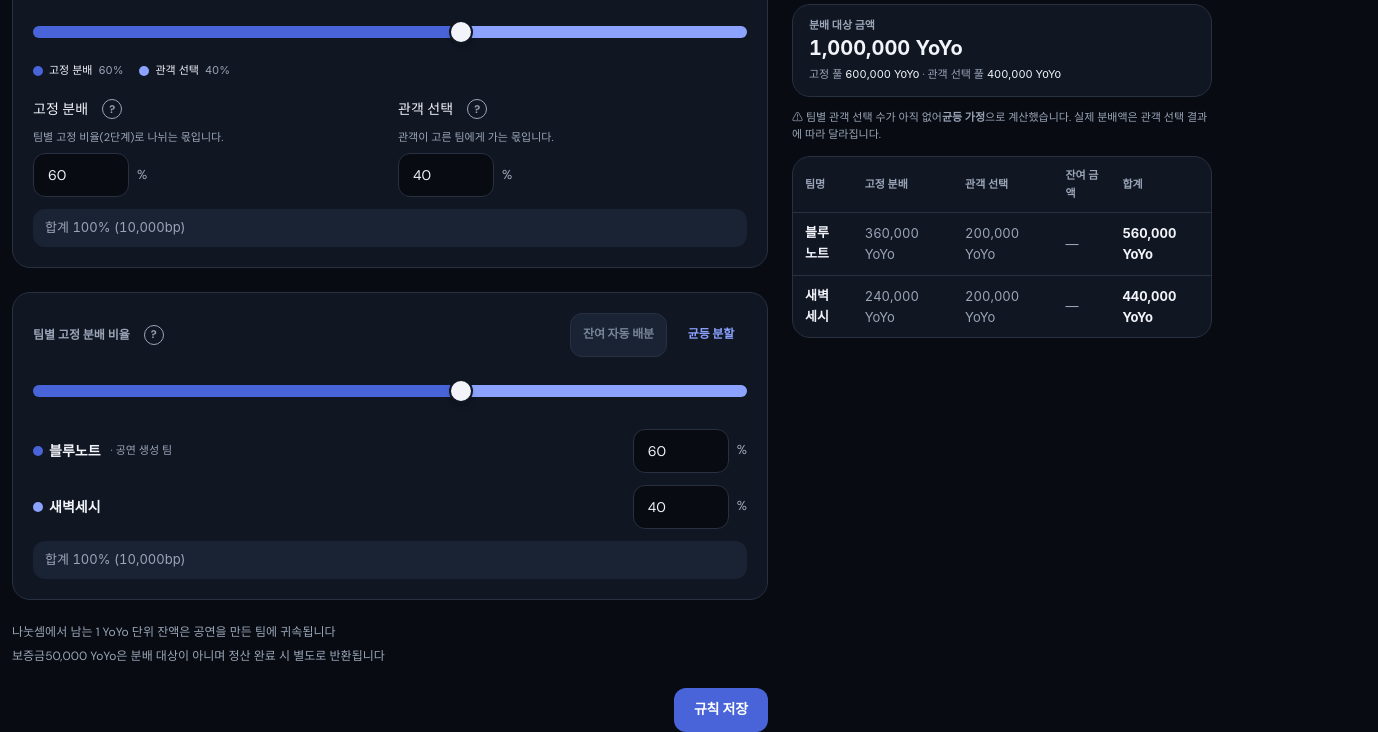
규칙 저장 성공 모달 › 저장 실패면 모달을 띄우지 않고 기존 실패 안내를 쓴다
The image size is (1378, 732).
(page scrolled)
Click the button "규칙 저장".
click(721, 710)  # box [674,688,768,731]
(page scrolled)
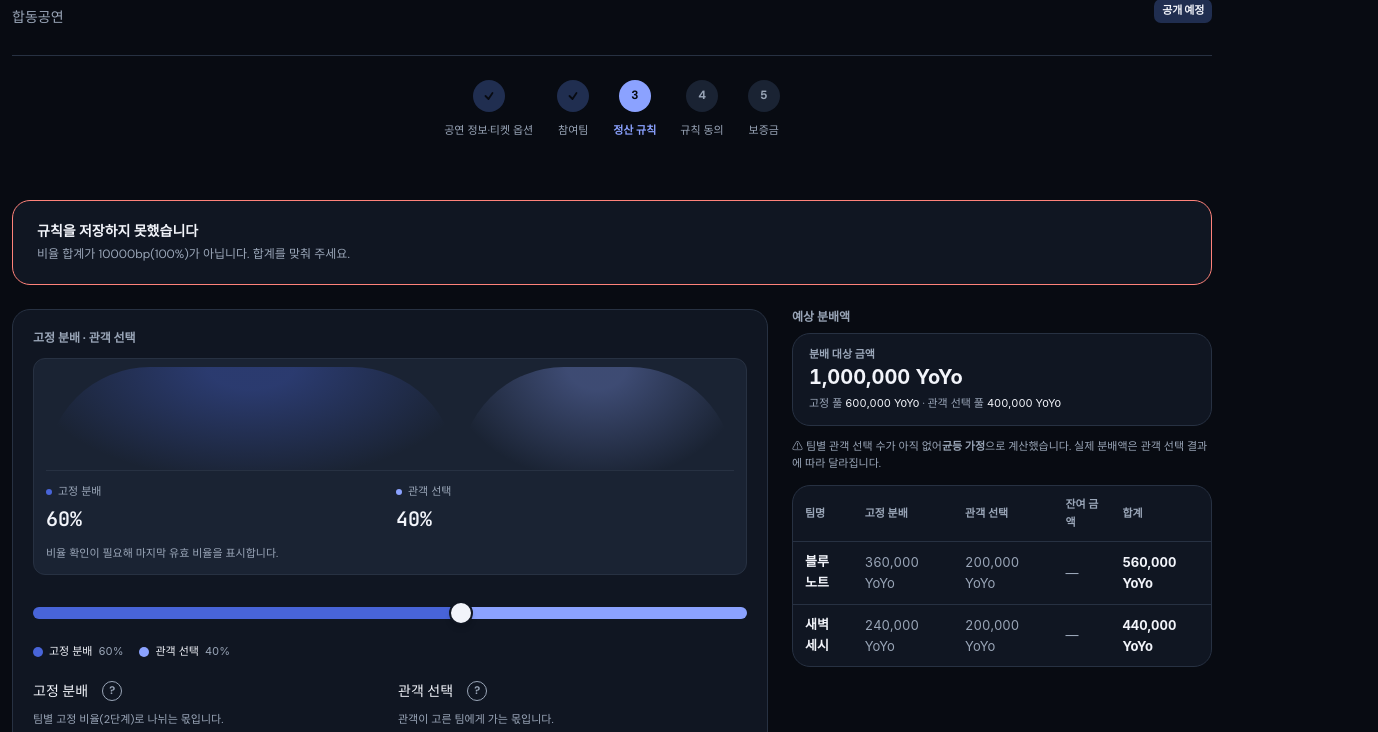
Now the text "규칙을 저장하지 못했습니다" is shown, box [37,222,198,240]
